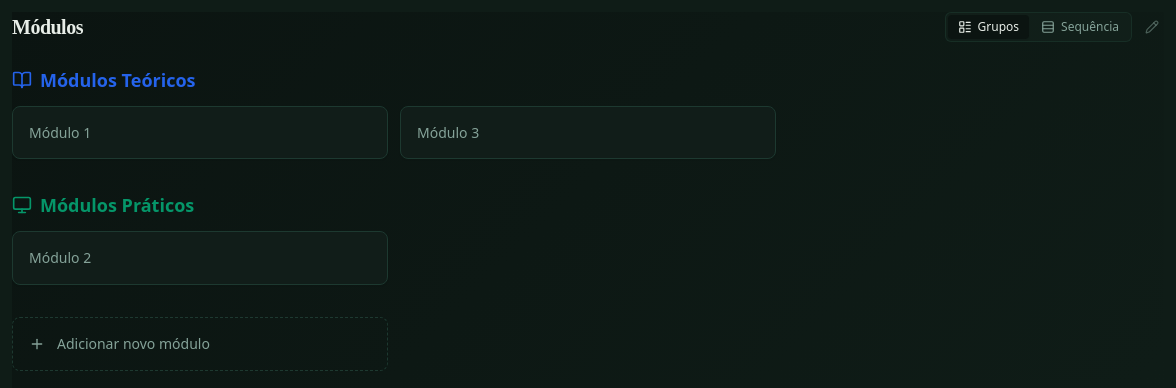
Test: adding a module › hides it while the cards are being reordered
This screenshot has width=1176, height=388.
Click the button named "Reordenar módulos".
click(1152, 27)  # box x1=1140 y1=15 x2=1164 y2=39
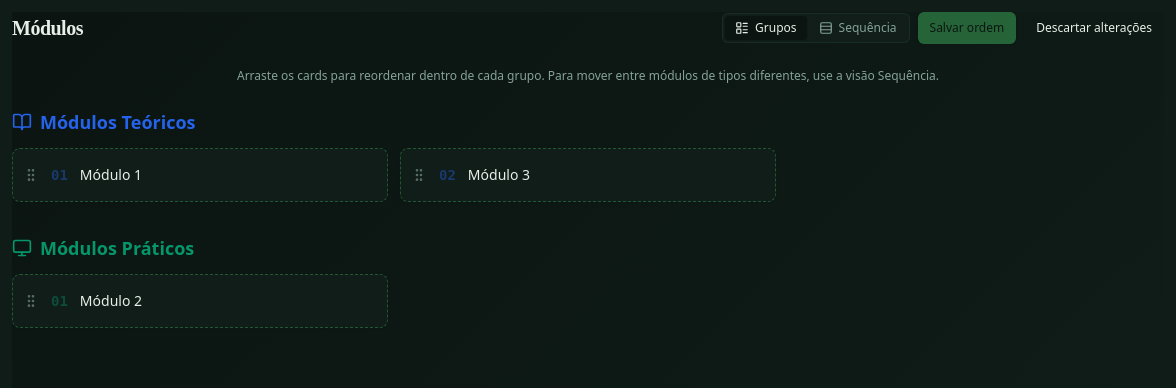
Check: the button "Adicionar novo módulo" is gone
